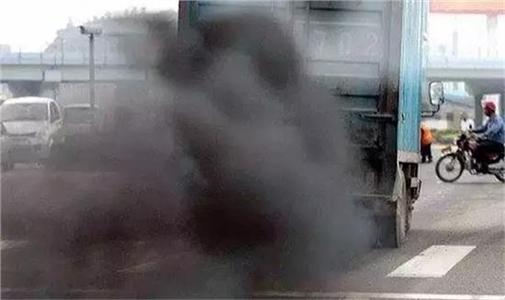smoke: (1, 39, 374, 300)
